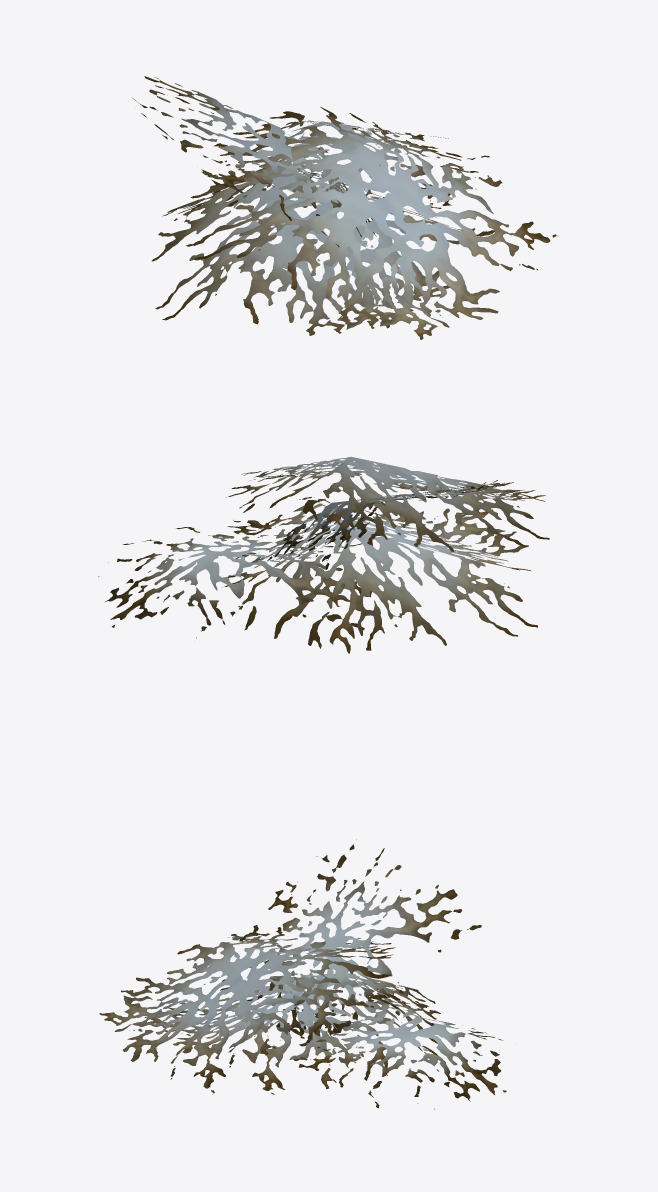
File: rzjd_gress_02.FBX
3 renders of one model, top to bottom at view 1: azimuth 30°, elevation 25°; view 2: azimuth 150°, elevation 25°; view 3: azimuth 270°, elevation 25°, orthographic. The views are drawn at different scales.
Parts seen in each view (by area): view 1: rzjd_gress_02; view 2: rzjd_gress_02; view 3: rzjd_gress_02.
Boxes of the visible parts, bbox=[...] form: rzjd_gress_02: bbox=[131, 76, 558, 339]; rzjd_gress_02: bbox=[98, 456, 549, 653]; rzjd_gress_02: bbox=[99, 839, 506, 1109].
Bounding box in the file's own units: 545 × 590 × 213.
